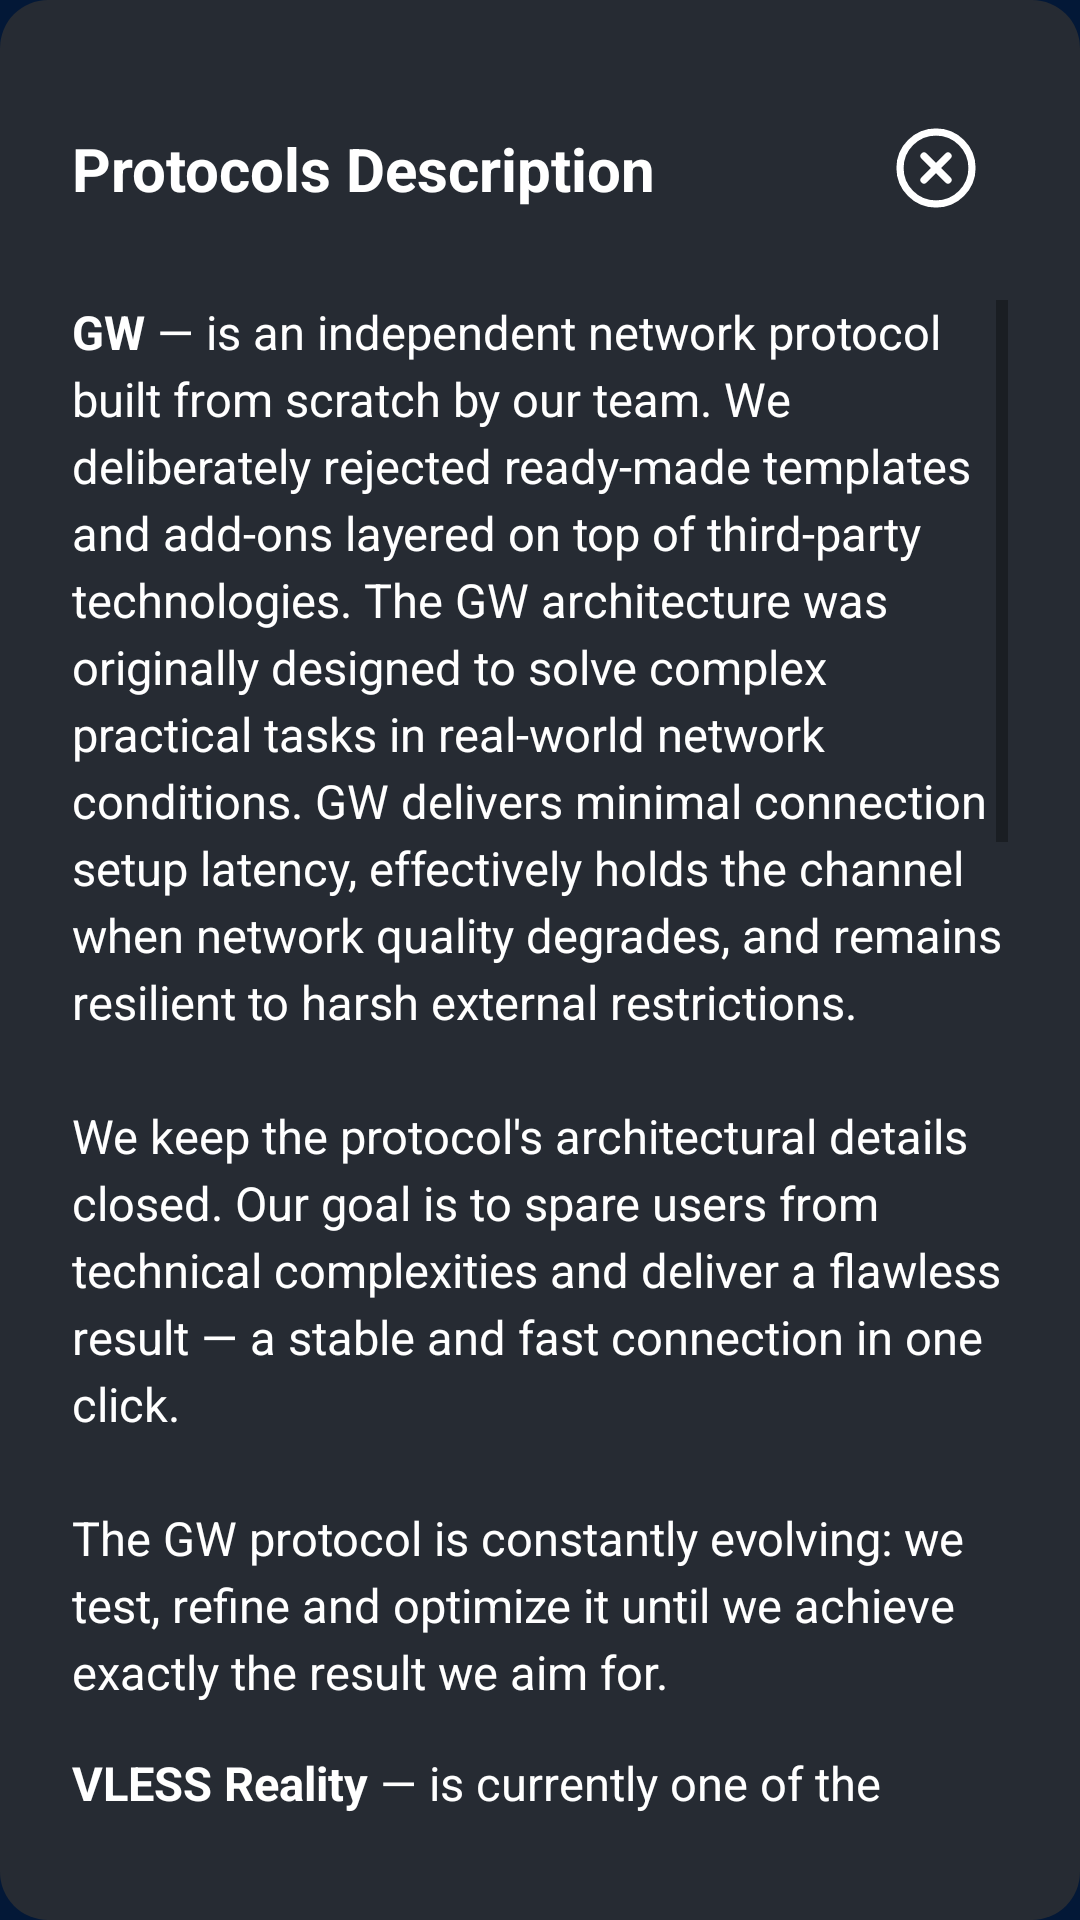

Icon bounding boxes for this 1080 x 1920 phone screenshot, format rect(x1, y1, x2, y2):
close: rect(896, 128, 976, 208)
